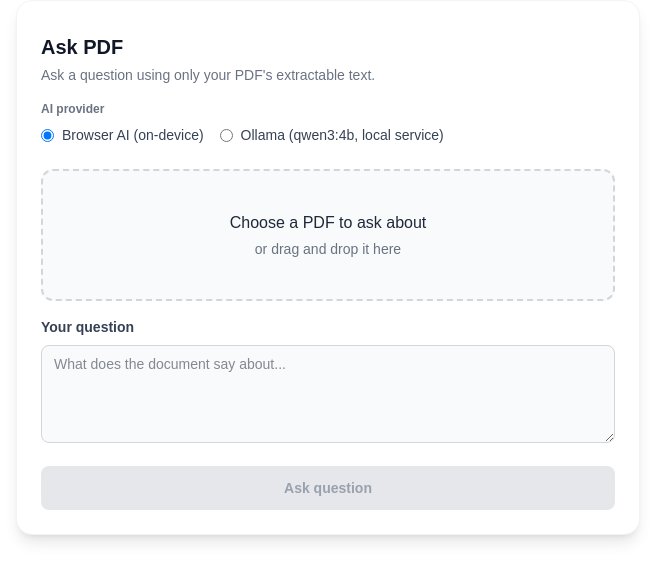
Test case: AskPdfCard › ignores stale Ollama availability rejection after a newer check succeeds
This screenshot has width=657, height=585.
What coordinates should you click on to do the following:
click the radio button labelled "Ollama (qwen3:4b, local service)"
I would click on:
 (226, 135)
Its box is [220, 128, 233, 142].
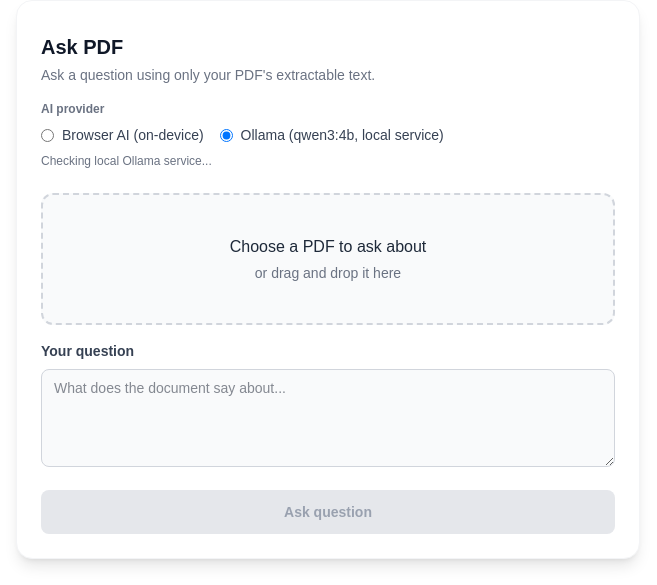
Expected: the radio button labelled "Ollama (qwen3:4b, local service)" is checked, [220, 128, 233, 142]
What coordinates should you click on to do the following:
click the radio button labelled "Browser AI (on-device)"
I would click on:
 (48, 135)
Its box is [41, 128, 54, 142].
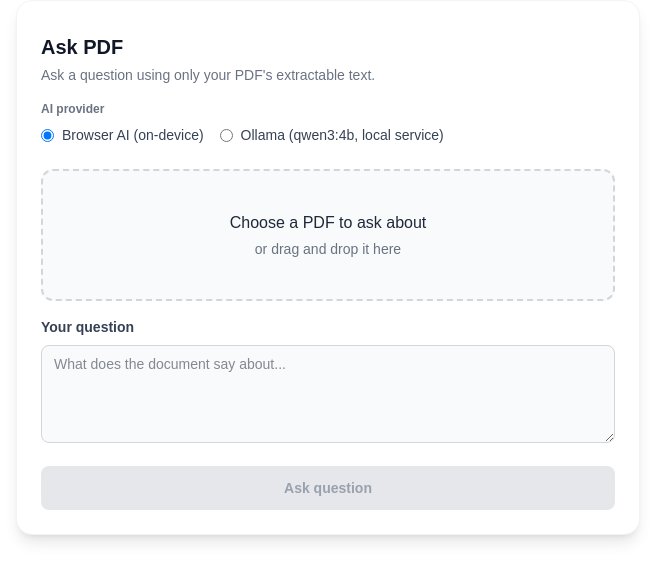
Expected: the radio button labelled "Browser AI (on-device)" is checked, [41, 128, 54, 142]
What coordinates should you click on to do the following:
click the radio button labelled "Ollama (qwen3:4b, local service)"
I would click on:
 (226, 135)
Its box is [220, 128, 233, 142].
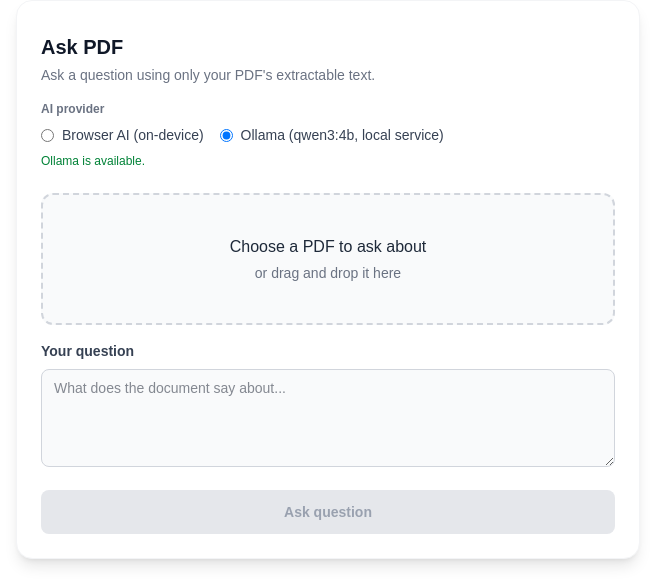
Expected: the text "Ollama is available." is shown, [41, 154, 145, 168]
